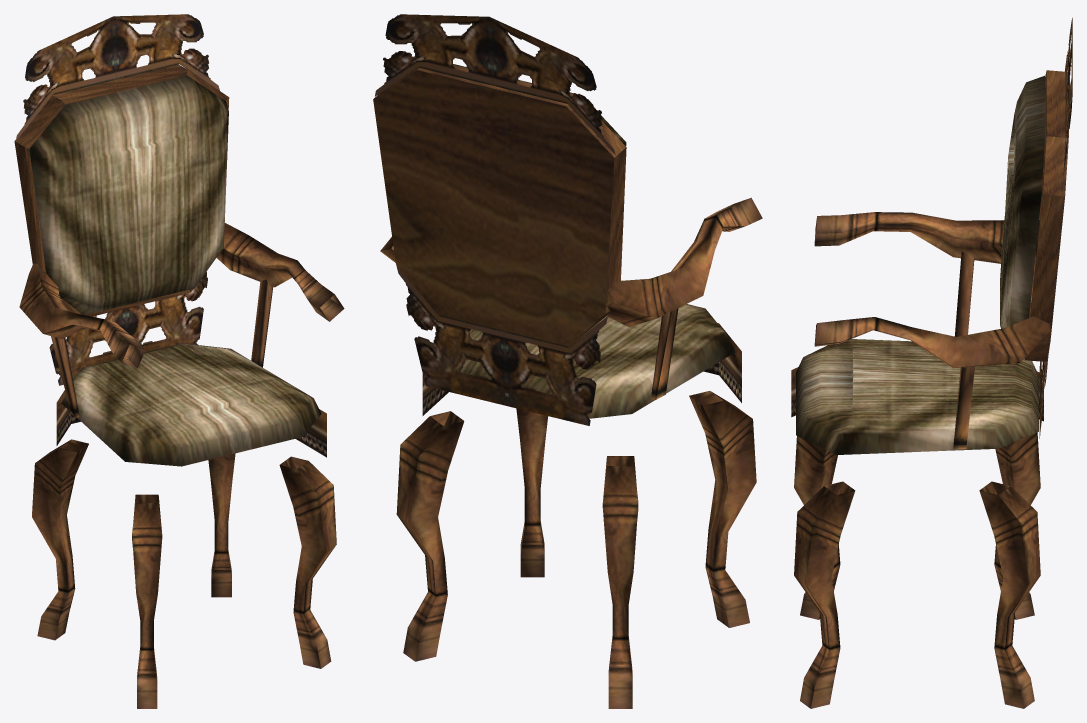
Rendered from Chair04.glb.
3 views of the same model, side by side, from view 1: azimuth 30°, elevation 25°; view 2: azimuth 150°, elevation 25°; view 3: azimuth 270°, elevation 25° (orthographic). The views are drawn at different scales.
Parts seen in each view (by area): view 1: _Chair04; view 2: _Chair04; view 3: _Chair04.
Boxes of the visible parts, box(x1,y1,x2,y2) form: _Chair04: box(14, 14, 344, 708); _Chair04: box(373, 14, 762, 708); _Chair04: box(791, 17, 1072, 708).
Bounding box in the file's own units: 0.8497 × 1.88 × 0.7714.
1 material, 1 textured.
